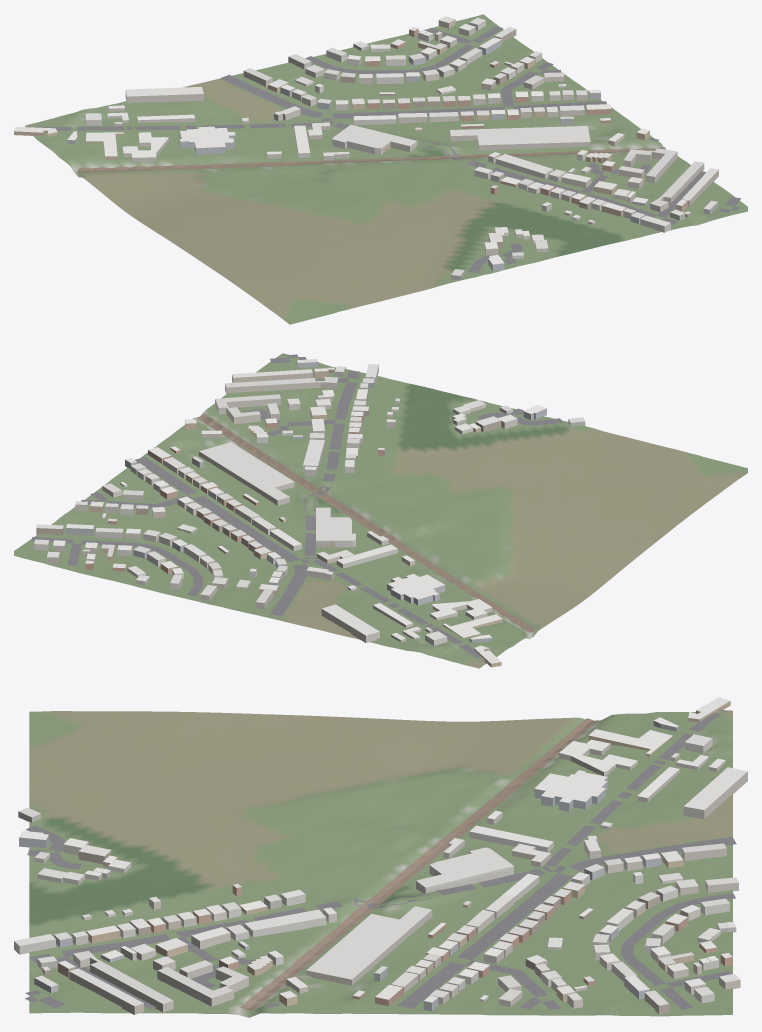
3 renders of one model, top to bottom at view 1: azimuth 30°, elevation 25°; view 2: azimuth 150°, elevation 25°; view 3: azimuth 270°, elevation 25°, orthographic. The views are drawn at different scales.
Parts seen in each view (by area): view 1: prim0, prim1, prim2, prim3; view 2: prim0, prim1, prim2, prim3; view 3: prim0, prim1, prim2, prim3.
Part boxes in pixels (box(x1,y1,x2,y2)): prim0: box(25, 14, 747, 324); prim1: box(14, 16, 718, 280); prim2: box(29, 26, 741, 272); prim3: box(78, 147, 665, 172); prim0: box(14, 353, 747, 668); prim1: box(34, 359, 585, 667); prim2: box(31, 354, 563, 661); prim3: box(197, 414, 536, 632); prim0: box(29, 710, 732, 1017); prim1: box(14, 697, 747, 1014); prim2: box(25, 709, 736, 1010); prim3: box(240, 718, 597, 1010).
Bounding box in the file's own units: 542 × 21.82 × 534.
